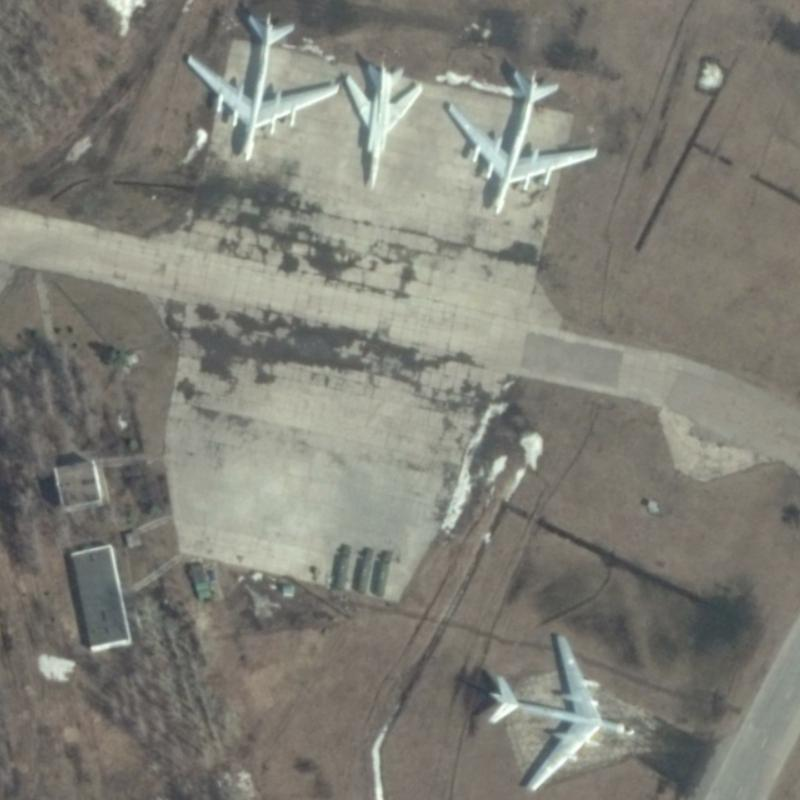A12: (341, 59, 424, 191)
A17: (183, 9, 342, 163), (485, 631, 636, 793), (444, 66, 600, 217)
